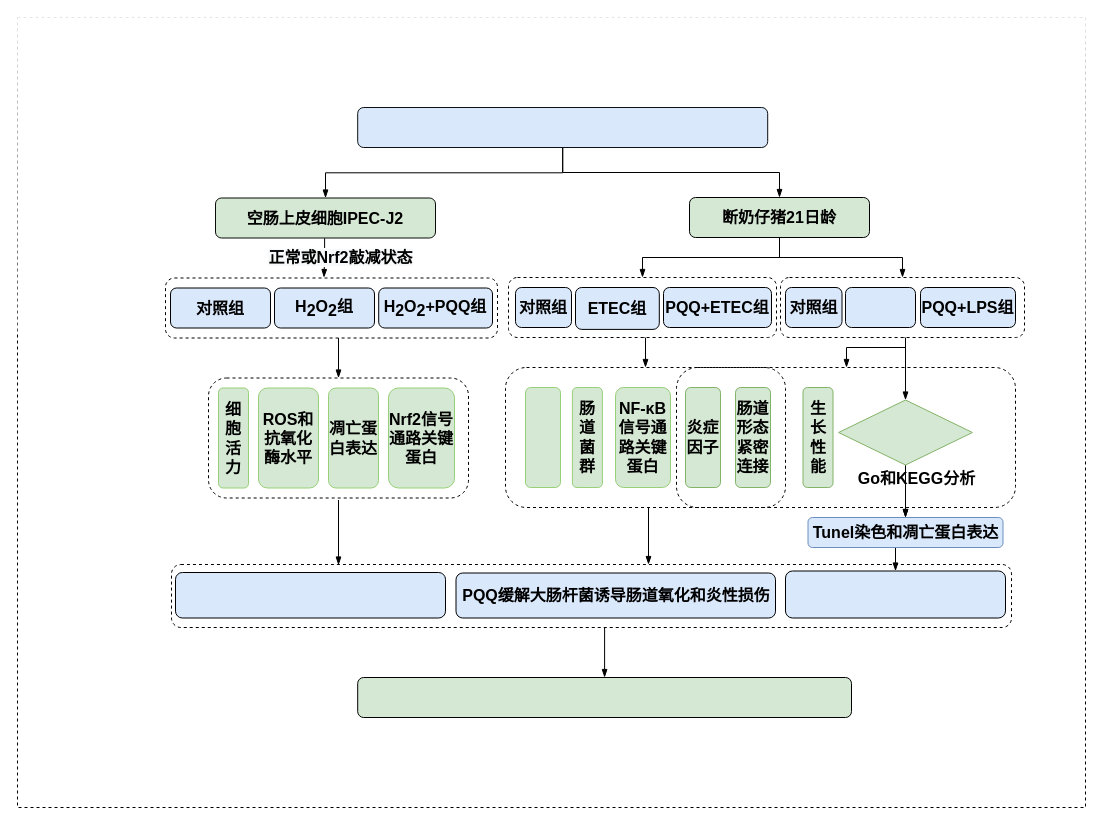
This 1103x825 diagram has some shape labels left out. Here are the shapes that lost their labels. From the top down, the centre of each, then its label:
At pixel 562 127: "体内外探究PQQ调节肠道炎性损伤的作用机制".
At pixel 880 307: "LPS组".
At pixel 542 437: "体温抗氧化酶".
At pixel 905 432: "DIA蛋白组学".
At pixel 310 595: "PQQ调节小肠上皮细胞氧化还原水平".
At pixel 895 594: "PQQ抑制炎性损伤介导的凋亡".
At pixel 604 697: "阐明PQQ 调控Nrf2/ NF-κB /p38信号调节肠道炎性损伤".
